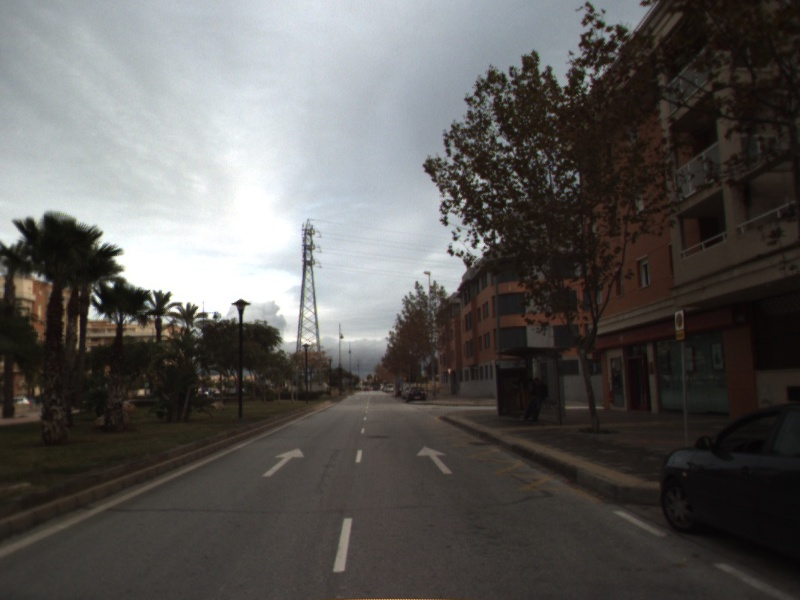STRAIGHT: (260, 446, 307, 479), (415, 444, 455, 476)
